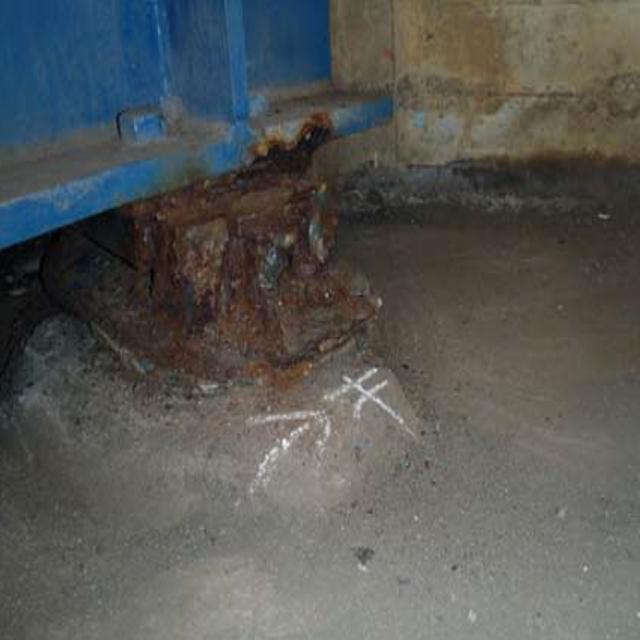corrosion: (66, 140, 388, 386)
